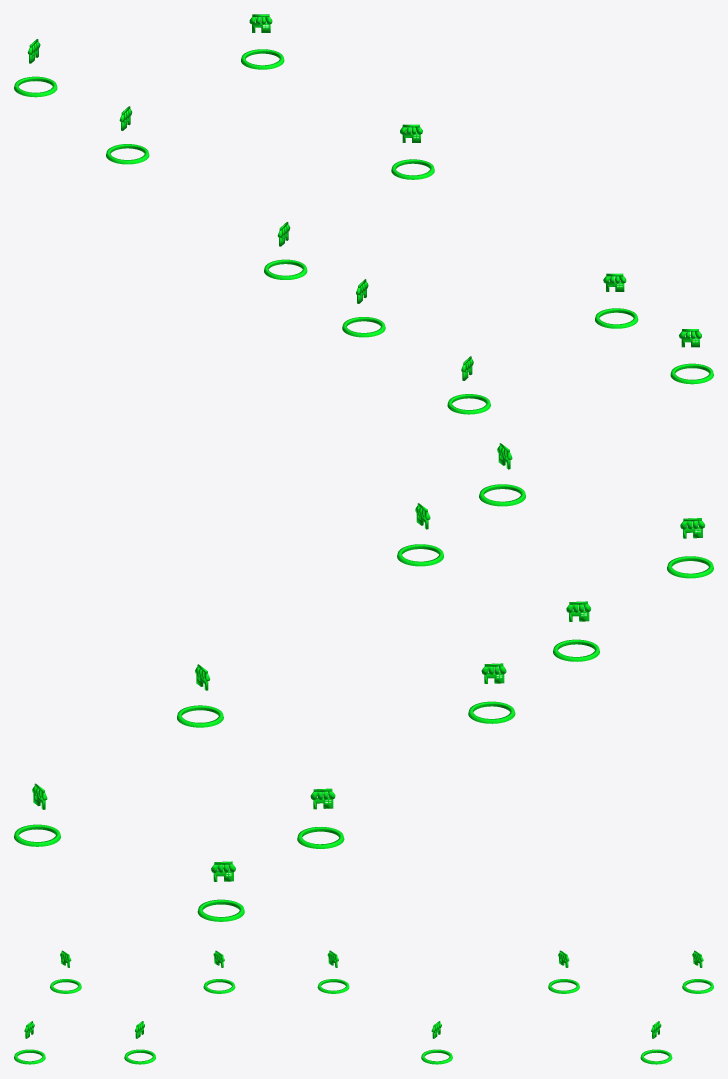
Rendered from StorePointer0~100.FBX.
3 views of the same model, one above another, from view 1: azimuth 30°, elevation 25°; view 2: azimuth 150°, elevation 25°; view 3: azimuth 270°, elevation 25° (orthographic). The views are drawn at different scales.
Parts seen in each view (by area): view 1: Box001; view 2: Box001; view 3: Box001.
Boxes of the visible parts, bbox=[...] form: Box001: bbox=[14, 14, 713, 414]; Box001: bbox=[14, 443, 713, 921]; Box001: bbox=[14, 950, 713, 1064].
Bounding box in the file's own units: 268 × 51.11 × 945.
